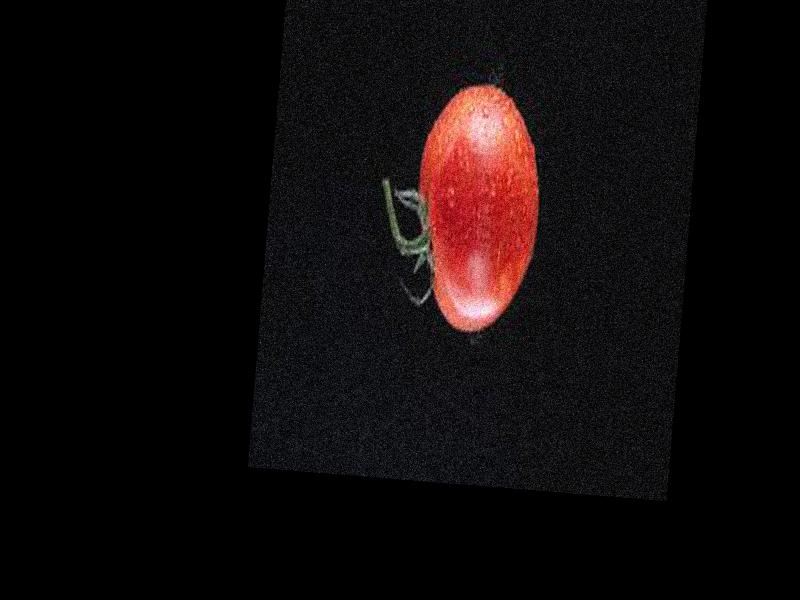Tomato: (406, 79, 548, 336)
